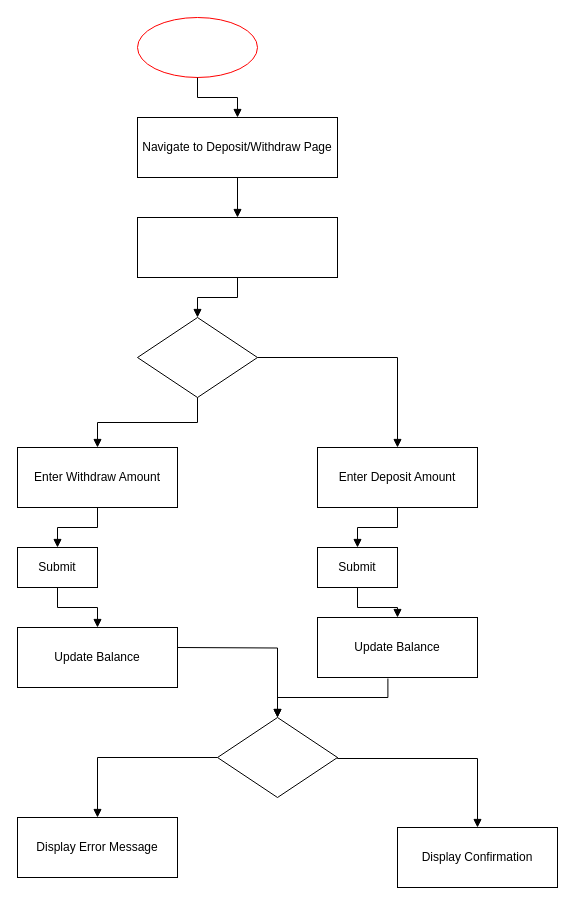
Some shapes in this 575 by 905 pixel diagram are drawn without their labels. The shapes that lost their labels are listed below. From the top down, each one's centre as x and y in pixels, then its label:
At point 197,47: "Start: Dashboard".
At point 237,247: "Choose Deposit or Withdraw".
At point 197,357: "Deposit or Withdraw?".
At point 277,757: "Transaction Successful?".
